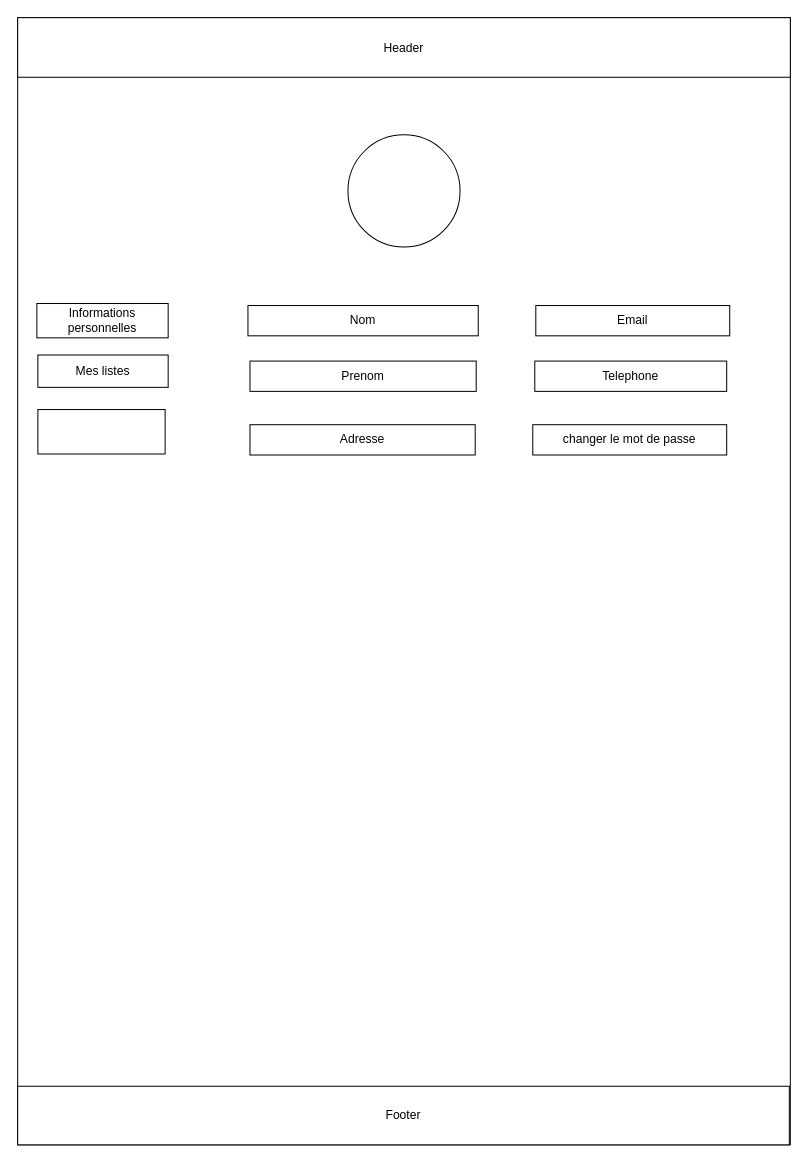
Some shapes in this 808 by 1163 pixel diagram are drawn without their labels. The centre of each missing label's shape, as x and y in pixels:
Parametres (notifications) (optionel): the point at 101,431
Photo de profil: the point at 403,190
